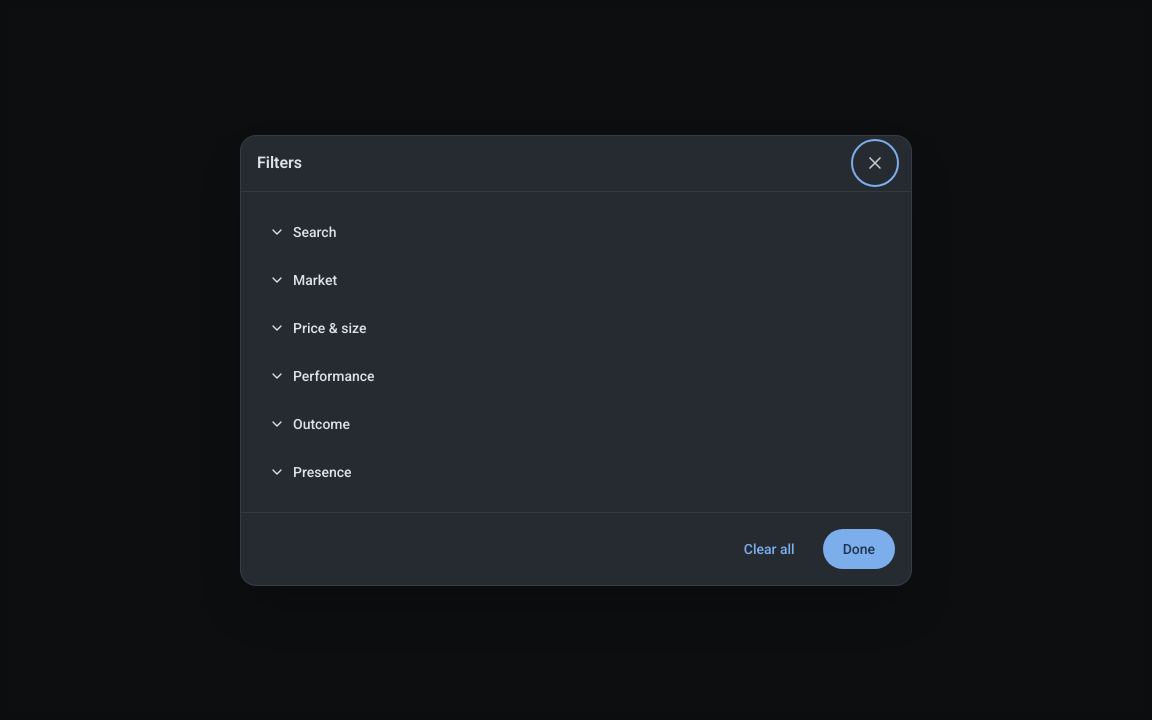
Test: PortfolioFilterSheet › renders the outcome options as separate buttons without an All option
The width and height of the screenshot is (1152, 720).
Click the button "Outcome" at (322, 424), box 261,404 -> 891,444
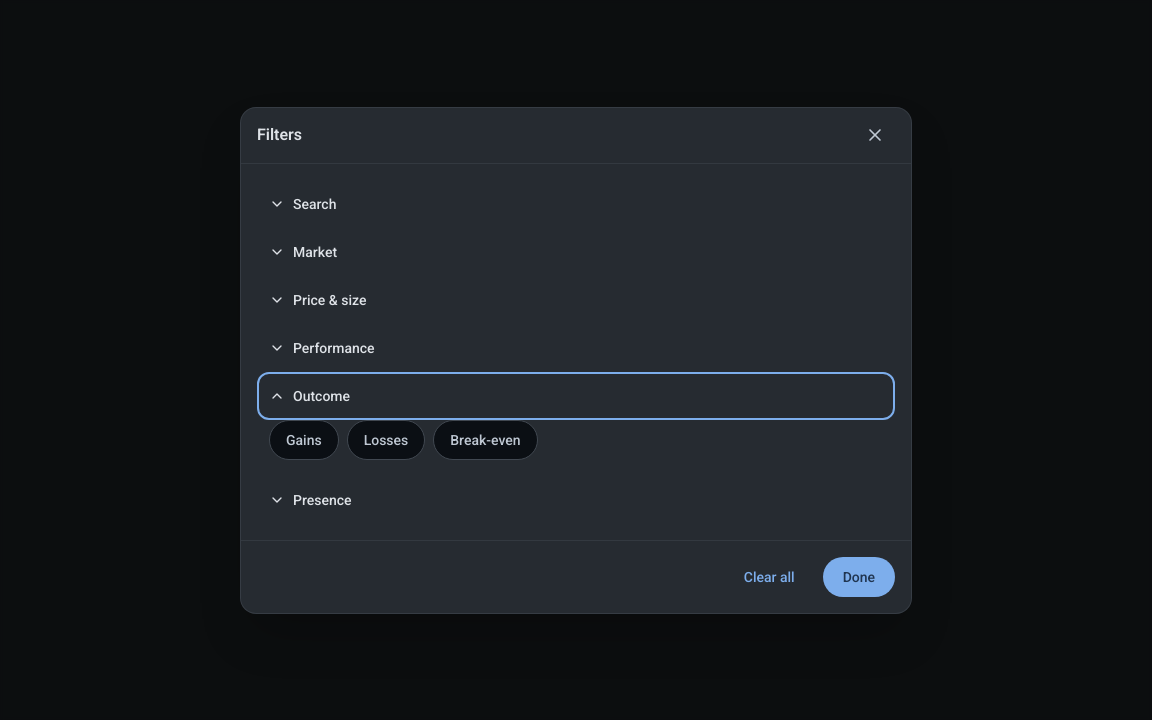
Now the element named "Outcome" is shown, box 269,420 -> 538,460
